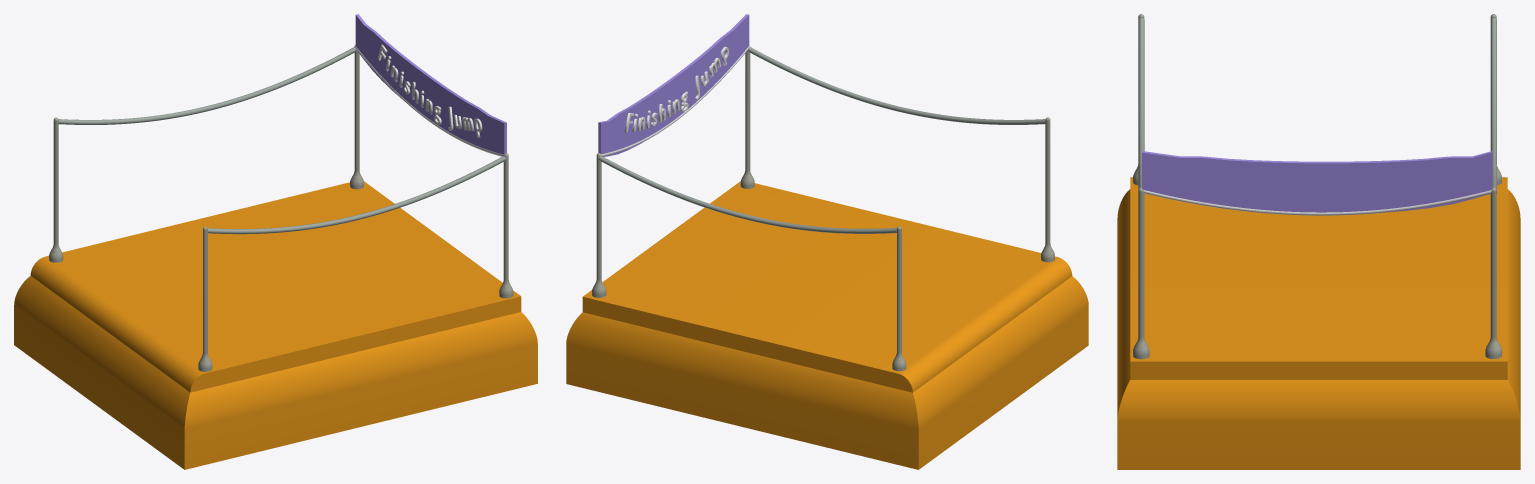
Rendered from FInalPlace.fbx.
3 renders of one model, left to right at view 1: azimuth 30°, elevation 25°; view 2: azimuth 150°, elevation 25°; view 3: azimuth 270°, elevation 25°, orthographic. The views are drawn at different scales.
Visible parts, largest first — view 1: Cube, Plane, NurbsPath, Circle, Circle.001, Text; view 2: Cube, Plane, NurbsPath, Circle.001, Circle, Text; view 3: Cube, Plane, NurbsPath, Circle, Circle.001, NurbsPath.001.
Part boxes in pixels (x1=…): Cube: x1=14, y1=181, x2=537, y2=469; Plane: x1=355, y1=14, x2=506, y2=154; NurbsPath: x1=58, y1=47, x2=506, y2=234; Circle: x1=49, y1=45, x2=363, y2=262; Circle.001: x1=198, y1=153, x2=513, y2=371; Text: x1=377, y1=44, x2=482, y2=137; Cube: x1=566, y1=181, x2=1088, y2=469; Plane: x1=598, y1=14, x2=749, y2=156; NurbsPath: x1=598, y1=47, x2=1045, y2=233; Circle.001: x1=740, y1=45, x2=1054, y2=262; Circle: x1=592, y1=153, x2=906, y2=371; Text: x1=624, y1=46, x2=728, y2=132; Cube: x1=1117, y1=177, x2=1520, y2=469; Plane: x1=1142, y1=151, x2=1492, y2=212; NurbsPath: x1=1138, y1=17, x2=1496, y2=192; Circle: x1=1485, y1=14, x2=1501, y2=358; Circle.001: x1=1133, y1=14, x2=1149, y2=359; NurbsPath.001: x1=1143, y1=190, x2=1491, y2=215.
Size of the model in its own units: 1444 by 1011 by 1208.
